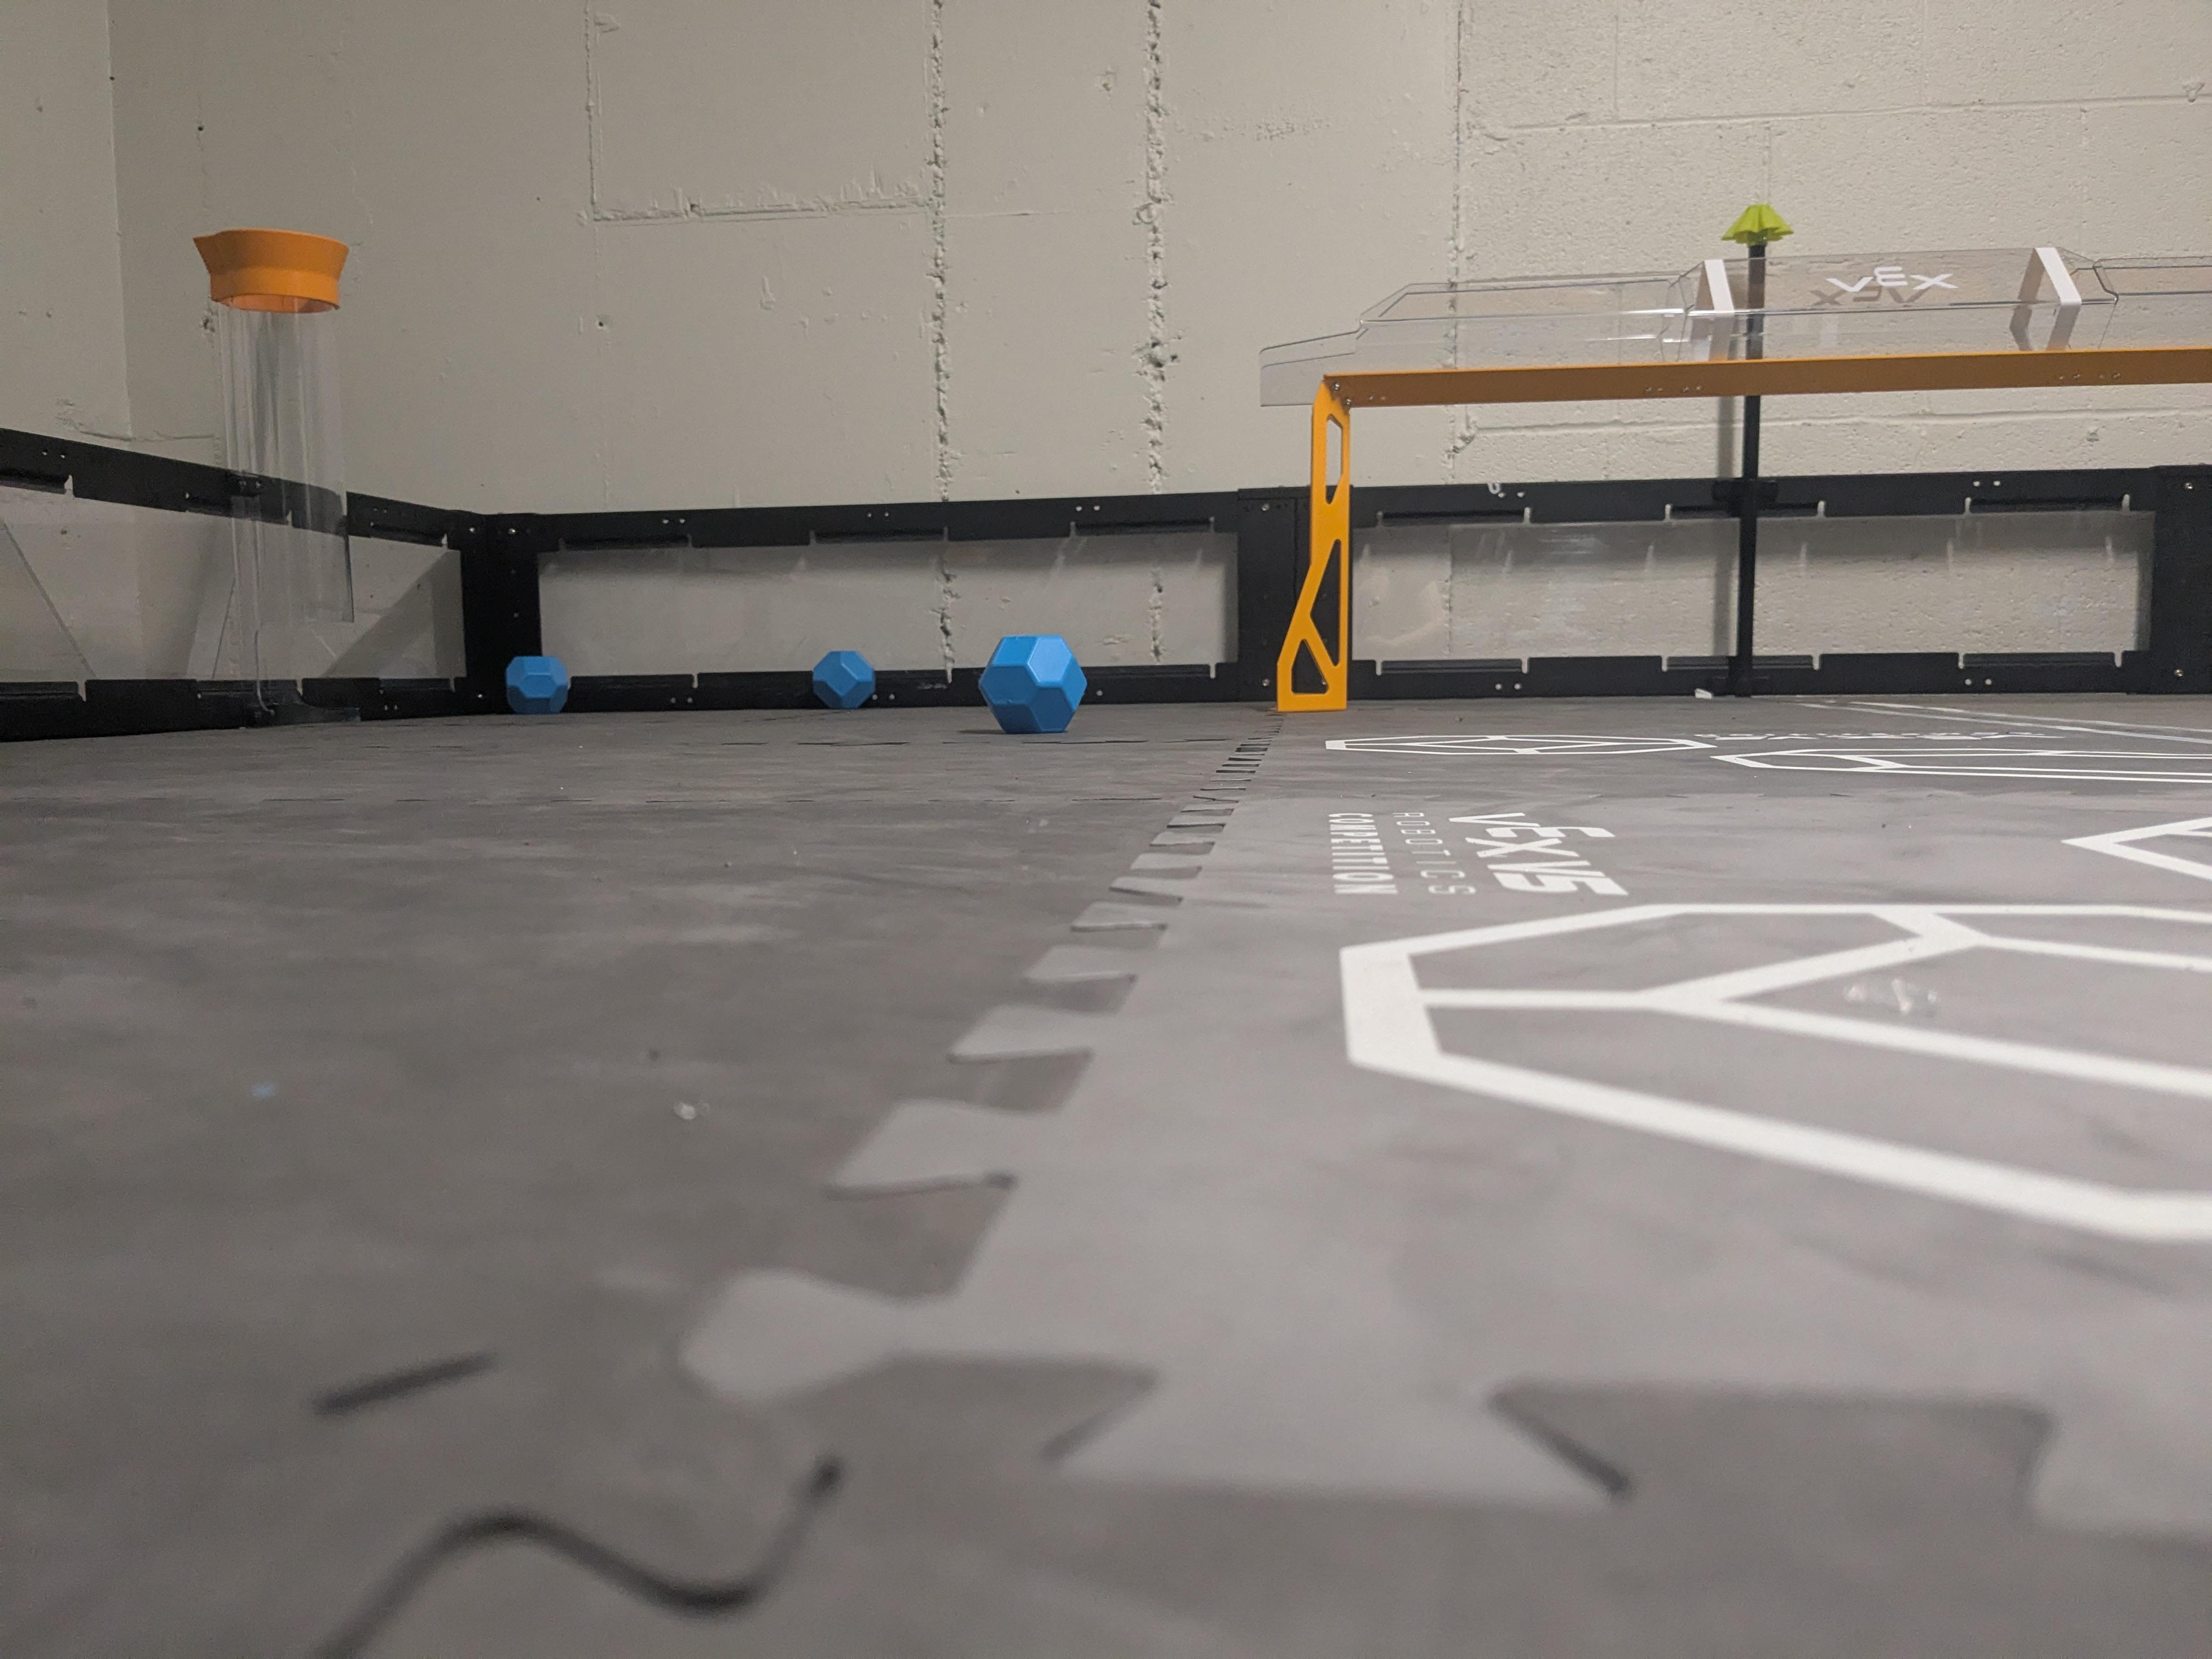Vex-Pieces-BLUE: (981, 634, 1085, 734), (505, 655, 570, 714), (812, 650, 874, 709)
